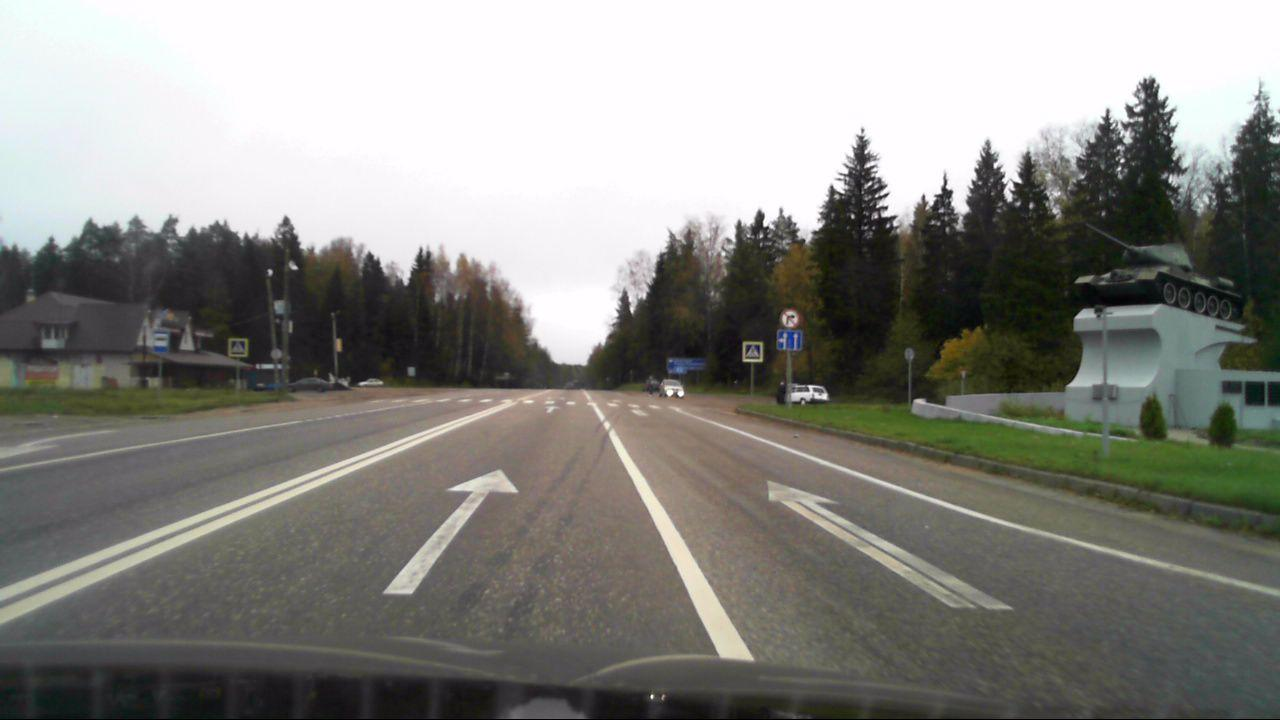3_18_1: (779, 308, 798, 327)
5_16: (153, 328, 170, 354)
5_19_1: (778, 330, 802, 350), (742, 343, 763, 361)
5_19_2: (231, 339, 246, 354)
